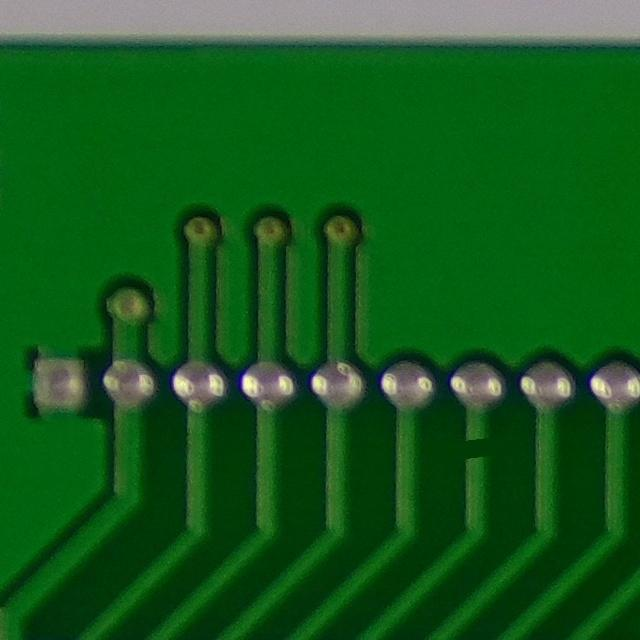open_circuit: (455, 428, 500, 468)
